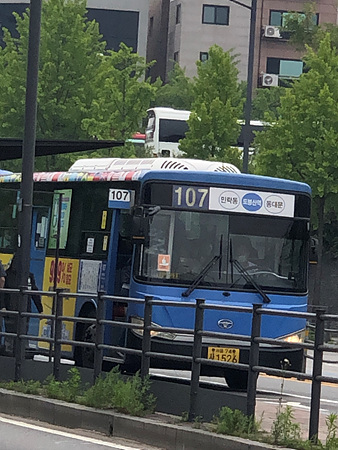bnum: (172, 185, 209, 207)
